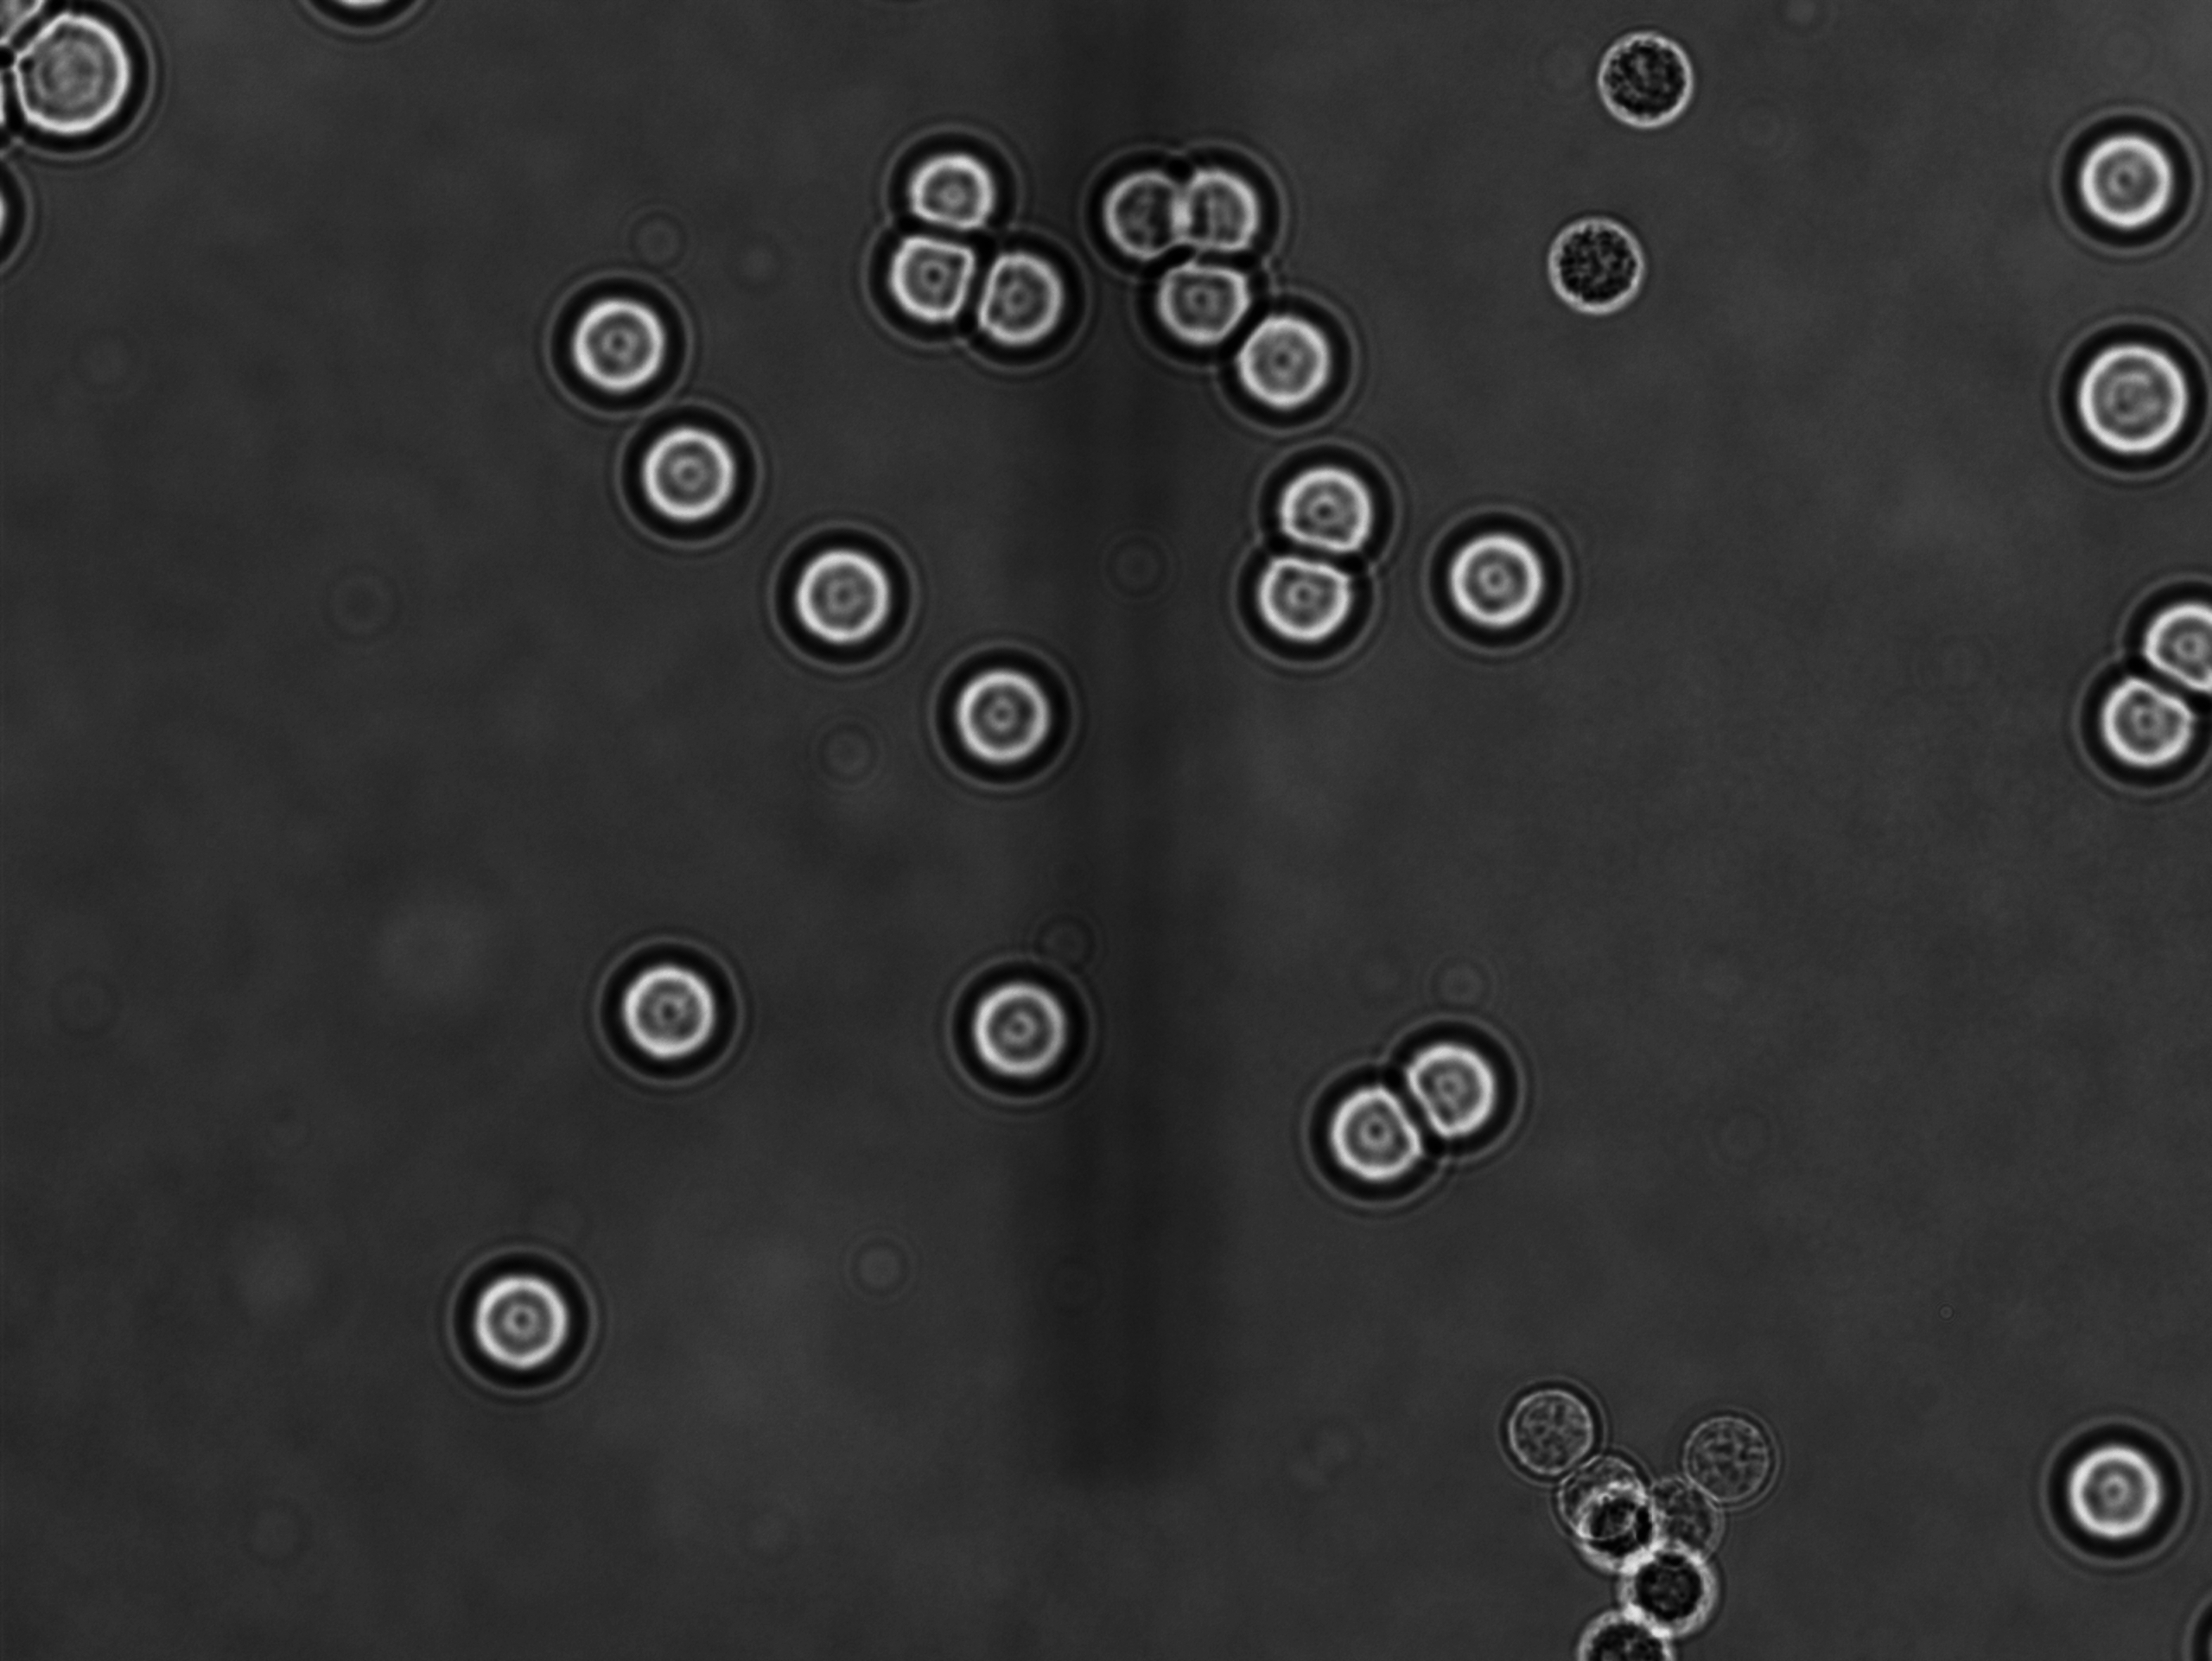depth:20: (522, 236, 720, 441), (1406, 487, 1600, 682), (919, 930, 1116, 1117), (2027, 79, 2212, 276), (754, 504, 946, 691), (1204, 508, 1399, 689), (595, 373, 792, 553), (1362, 986, 1551, 1171), (581, 916, 762, 1103), (434, 1228, 621, 1410), (1233, 433, 1425, 604), (2034, 318, 2212, 499), (1205, 272, 1383, 450), (876, 99, 1052, 276), (918, 626, 1094, 796), (1282, 1049, 1457, 1218), (2064, 635, 2212, 818), (966, 218, 1127, 387), (850, 213, 1008, 373), (2095, 553, 2212, 717)
